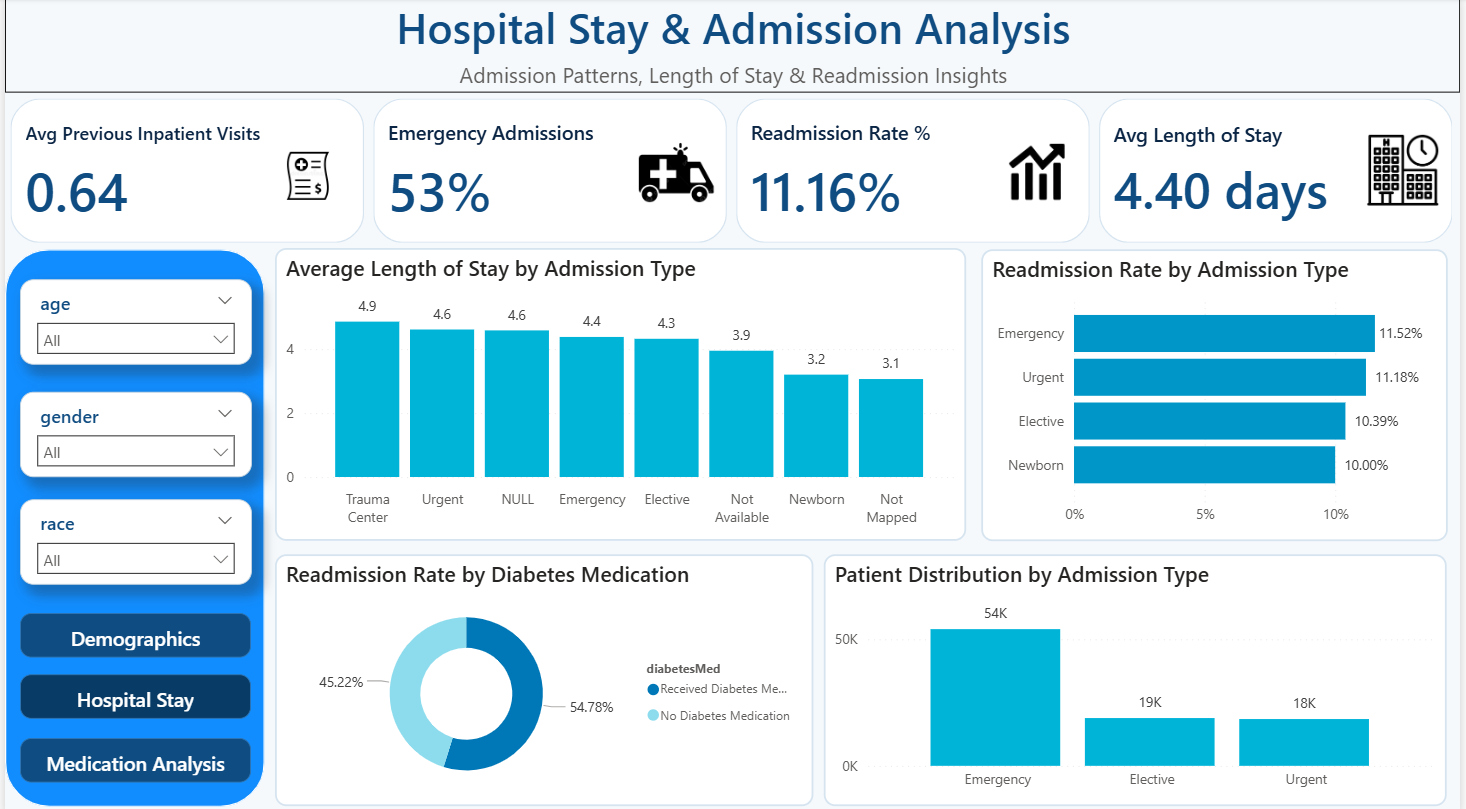

The dashboard page shown, as its layout file describes it:
{"tool":"powerbi","page":{"name":"Hospital Stay","canvas":[1280,720],"ordinal":1},"visuals":[{"type":"textbox","title":"Hospital Stay & Admission Analysis","box":[0,0,1279.9,83.6],"z":0},{"type":"cardVisual","fields":{"Data":["Avg(diabetes_readmission.number_inpatient)","Admission source ID.Emergency Admissiom","diabetes_readmission.Readmission Rate %","diabetes_readmission.Avg Length of Stay (Display)"]},"box":[0,83.6,1279.9,137.4],"z":1000},{"type":"shape","box":[0,220.7,228.4,490.4],"z":2000},{"type":"slicer","fields":{"Values":["diabetes_readmission.age"]},"box":[12.9,247.8,203.9,74.9],"z":3000},{"type":"slicer","fields":{"Values":["diabetes_readmission.gender"]},"box":[12.9,345.9,203.9,74.9],"z":4000},{"type":"slicer","fields":{"Values":["diabetes_readmission.race"]},"box":[12.9,441.4,203.9,74.9],"z":5000},{"type":"actionButton","box":[13.2,541,203.4,39.6],"z":6000},{"type":"actionButton","box":[13.2,650.9,203.4,39.6],"z":7000},{"type":"actionButton","box":[13.2,594.9,203.4,39.6],"z":8000},{"type":"columnChart","title":"Average Length of Stay by Admission Type","fields":{"Category":["Admission type ID.description"],"Y":["diabetes_readmission.Avg Length of Stay"]},"box":[237.3,220.3,607.7,257.8],"z":9000},{"type":"donutChart","title":"Readmission Rate by Diabetes Medication","fields":{"Category":["diabetes_readmission.diabetesMed"],"Y":["diabetes_readmission.Readmission Rate %"]},"box":[237.3,489,473.3,221.5],"z":10000},{"type":"clusteredBarChart","title":"Readmission Rate by Admission Type","fields":{"Y":["diabetes_readmission.Readmission Rate %"],"Category":["Admission type ID.description"]},"box":[858.2,221.5,410.4,256.6],"z":11000},{"type":"clusteredColumnChart","title":"Patient Distribution by Admission Type","fields":{"Y":["diabetes_readmission.Total Patients"],"Category":["Admission type ID.description"]},"box":[720.2,489,548.4,221.5],"z":12000}]}

Visuals, with their boxes in screenshot pixels (x1, y1, x2, y2), scaled from the page's 1280x720 canvas onto the 1466x809 screenshot:
"Hospital Stay & Admission Analysis" textbox: <region>0, 0, 1465, 94</region>
cardVisual - Avg(diabetes_readmission.number_inpatient) x Admission source ID.Emergency Admissiom: <region>0, 94, 1465, 248</region>
shape: <region>0, 248, 262, 799</region>
slicer - diabetes_readmission.age: <region>15, 278, 248, 363</region>
slicer - diabetes_readmission.gender: <region>15, 389, 248, 473</region>
slicer - diabetes_readmission.race: <region>15, 496, 248, 580</region>
actionButton: <region>15, 608, 248, 652</region>
actionButton: <region>15, 731, 248, 776</region>
actionButton: <region>15, 668, 248, 713</region>
"Average Length of Stay by Admission Type" columnChart: <region>272, 248, 968, 537</region>
"Readmission Rate by Diabetes Medication" donutChart: <region>272, 549, 814, 798</region>
"Readmission Rate by Admission Type" clusteredBarChart: <region>983, 249, 1453, 537</region>
"Patient Distribution by Admission Type" clusteredColumnChart: <region>825, 549, 1453, 798</region>
